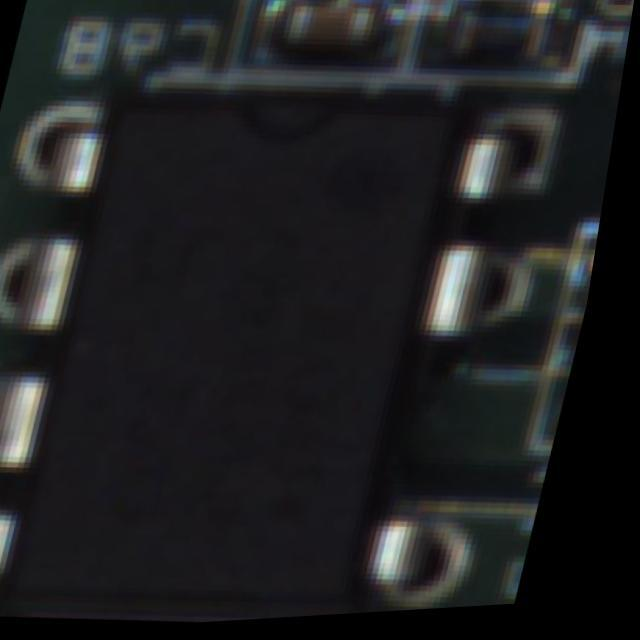IC: (0, 27, 532, 638)
